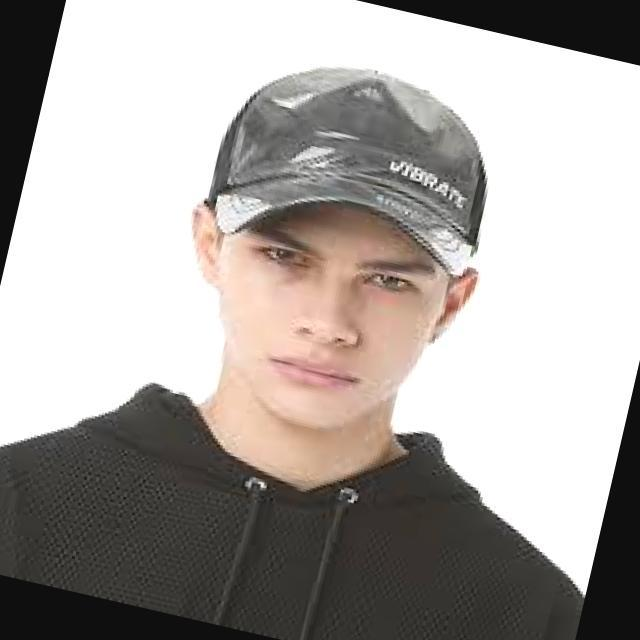cap: (172, 1, 544, 310)
